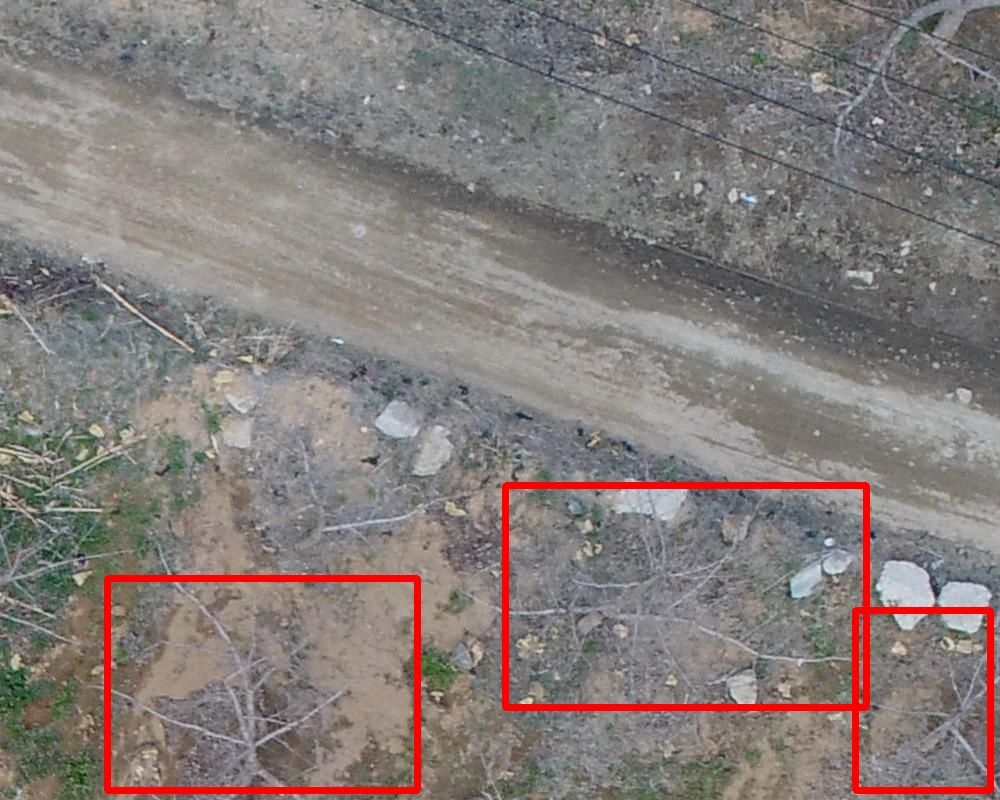apple: (505, 485, 866, 707), (107, 578, 417, 790), (855, 610, 990, 790)
